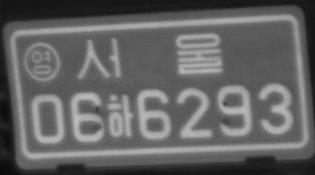0: (30, 92, 65, 144)
2: (176, 86, 212, 139)
3: (259, 82, 293, 136)
6: (69, 90, 105, 143), (136, 87, 171, 141)
9: (217, 84, 252, 137)
서울_D: (76, 31, 223, 79)
영: (23, 42, 61, 83)
하: (107, 93, 133, 138)
